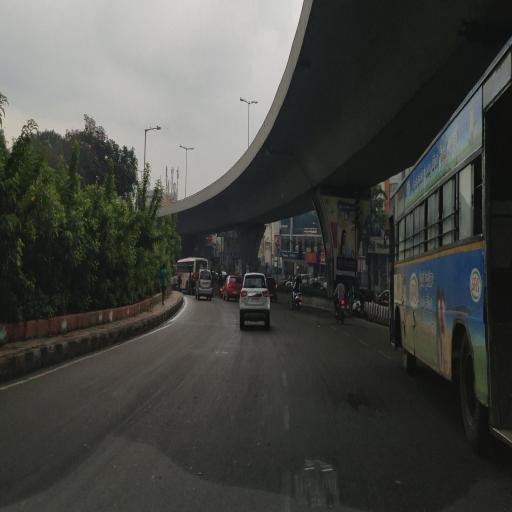street_light_0: (143, 113, 162, 144), (248, 94, 264, 114), (236, 89, 252, 109), (185, 140, 195, 154), (176, 138, 186, 152)
